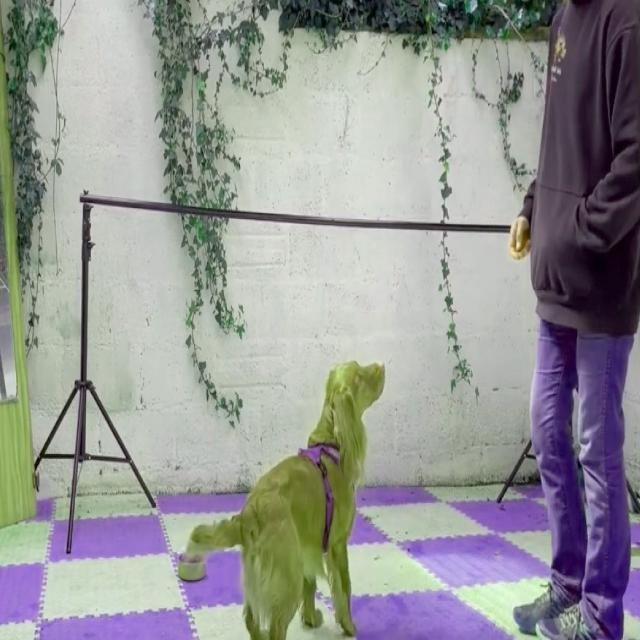Unleashed_Dog: (185, 358, 613, 640)
